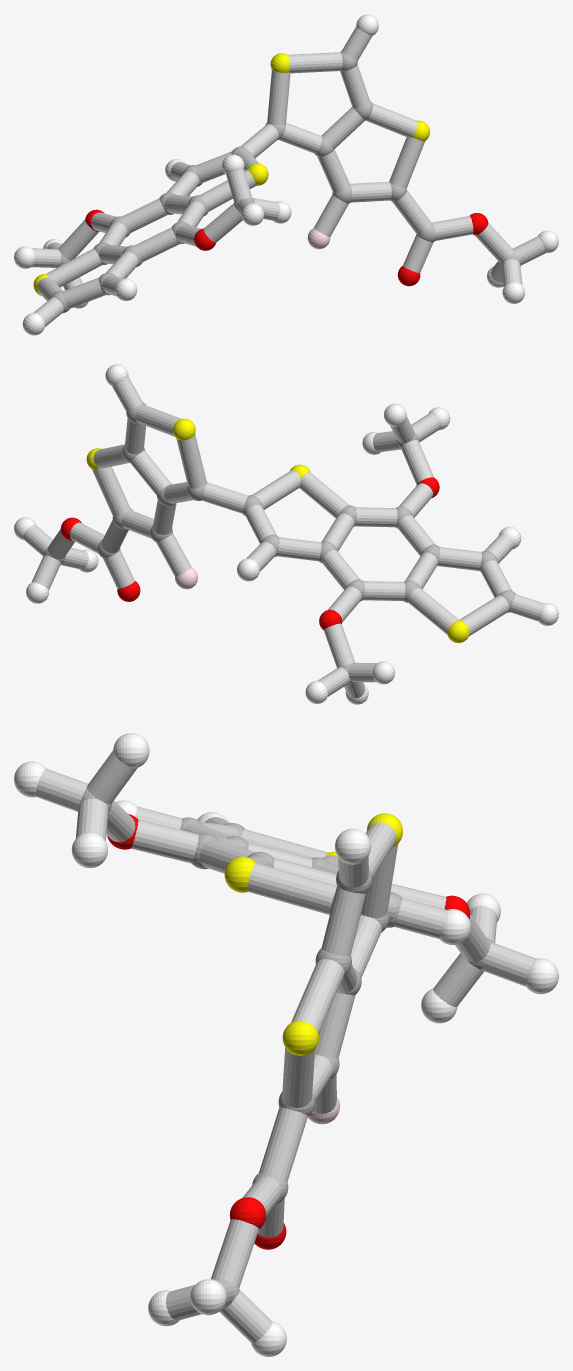
Rendered from color.glb.
3 renders of one model, top to bottom at view 1: azimuth 30°, elevation 25°; view 2: azimuth 150°, elevation 25°; view 3: azimuth 270°, elevation 25°, orthographic. The views are drawn at different scales.
Visible parts, largest first — view 1: grp15205, grp8689, grp1, grp13395, grp7241; view 2: grp15205, grp8689, grp1, grp7241, grp13395; view 3: grp15205, grp8689, grp1, grp7241, grp13395.
Boxes of the visible parts, x1=… form: grp15205: x1=31, y1=26, x2=546, y2=326; grp8689: x1=14, y1=14, x2=558, y2=335; grp1: x1=50, y1=51, x2=518, y2=313; grp13395: x1=85, y1=209, x2=488, y2=286; grp7241: x1=33, y1=53, x2=429, y2=295; grp15205: x1=23, y1=377, x2=543, y2=698; grp8689: x1=14, y1=364, x2=558, y2=704; grp1: x1=43, y1=402, x2=515, y2=683; grp7241: x1=86, y1=418, x2=469, y2=643; grp13395: x1=60, y1=477, x2=439, y2=629; grp15205: x1=35, y1=750, x2=535, y2=1342; grp8689: x1=14, y1=733, x2=558, y2=1356; grp1: x1=80, y1=787, x2=493, y2=1310; grp7241: x1=224, y1=813, x2=402, y2=1055; grp13395: x1=107, y1=814, x2=470, y2=1249.
Bounding box in the file's own units: 16.22 × 8.08 × 8.99.
